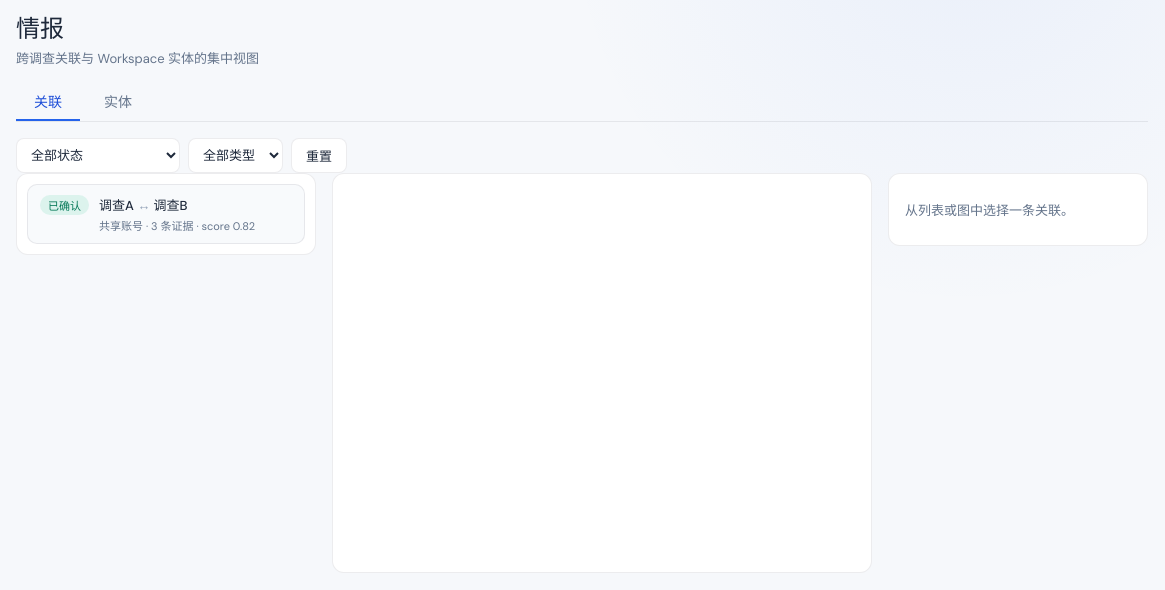
Test: IntelligenceView › shows the entity empty hint
This screenshot has width=1165, height=590.
Step 1. Click the tab with class "intelview__tab" showing "实体" → [118, 102], box left=86, top=83, right=150, bottom=121
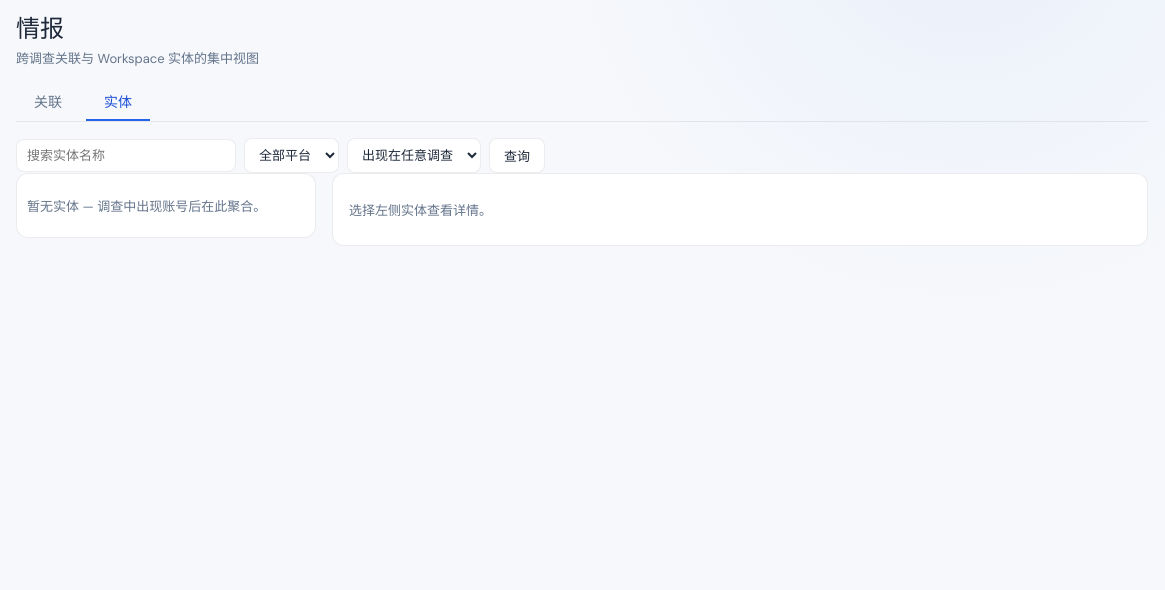
Expected: the text "暂无实体" is shown, left=27, top=198, right=266, bottom=215
